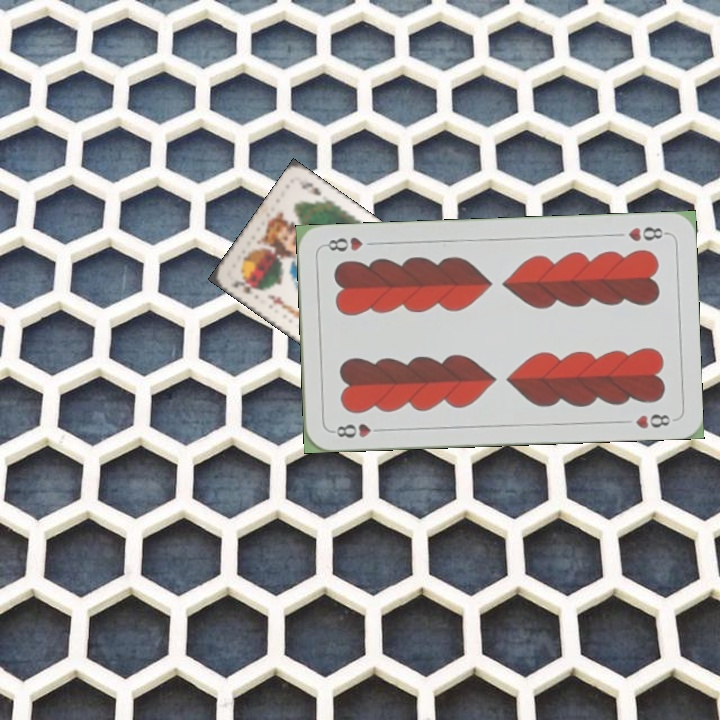H8: (328, 420, 387, 440), (624, 223, 670, 244)
SK: (229, 274, 262, 297)
